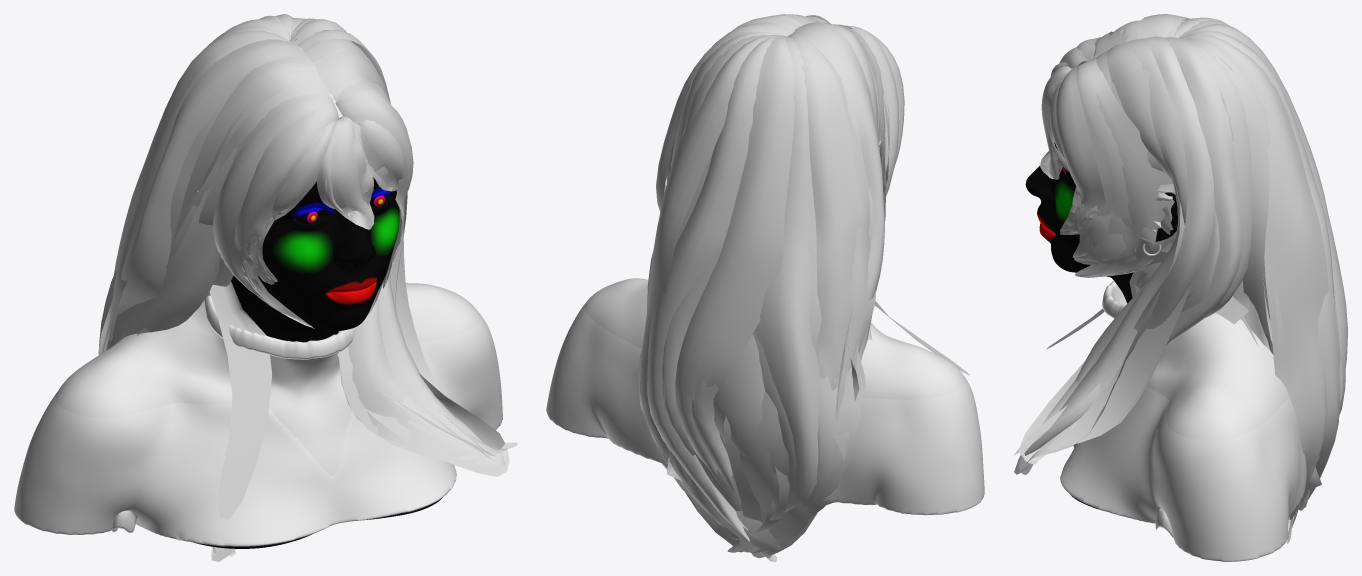
The model's file is female.glb.
The picture shows the model from 3 angles, left to right: view 1: azimuth 30°, elevation 25°; view 2: azimuth 150°, elevation 25°; view 3: azimuth 270°, elevation 25°; orthographic projection. The views are drawn at different scales.
Parts seen in each view (by area): view 1: HAIRCARD_F, TOP_F_VNECK, TOP_F_TURTLE, BODY_F; view 2: HAIRCARD_F, TOP_F_VNECK, TOP_F_TURTLE; view 3: HAIRCARD_F, TOP_F_VNECK, TOP_F_TURTLE, BODY_F.
Boxes of the visible parts, box(x1,y1,x2,y2) form: HAIRCARD_F: box(98, 14, 517, 561); TOP_F_VNECK: box(14, 312, 502, 546); TOP_F_TURTLE: box(55, 283, 479, 546); BODY_F: box(193, 177, 441, 548); HAIRCARD_F: box(637, 14, 969, 561); TOP_F_VNECK: box(546, 303, 984, 515); TOP_F_TURTLE: box(584, 278, 964, 501); HAIRCARD_F: box(1014, 14, 1347, 543); TOP_F_VNECK: box(1060, 386, 1306, 561); TOP_F_TURTLE: box(1102, 281, 1288, 537); BODY_F: box(1025, 142, 1177, 510).
Size of the model in its own units: 0.4638 by 0.5186 by 0.302.
